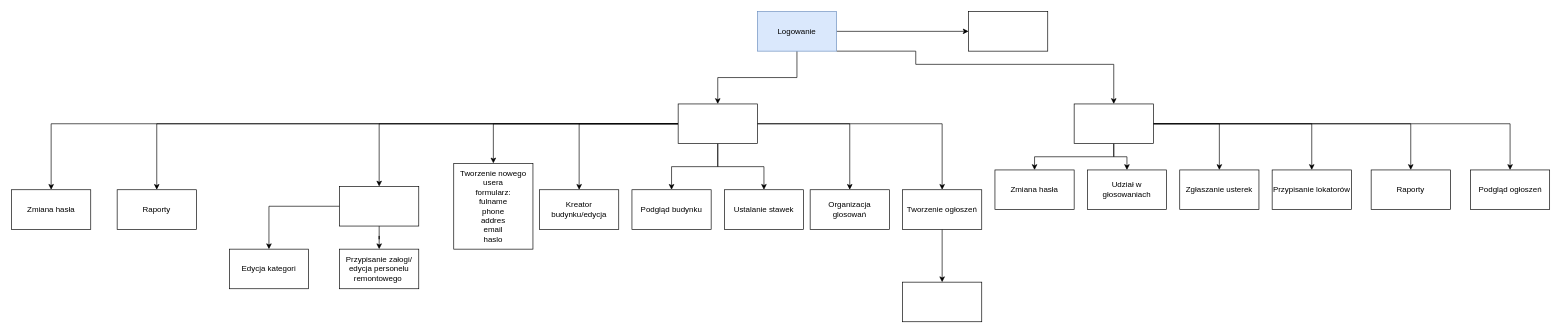
This 1562x333 diagram has some shape labels left out. Here are the shapes that lost their labels. From the top down, the centre of each, then its label:
point (1008, 31): Odzyskanie hasła
point (717, 123): Panel admina
point (1113, 123): Panel usera
point (379, 206): Zarządzanie usterkami
point (942, 301): Edycja
